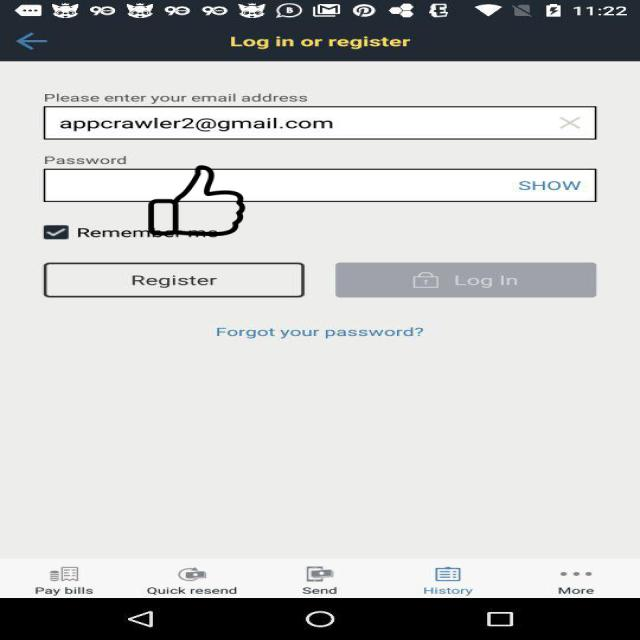privacy zuckering: (147, 165, 246, 236)
